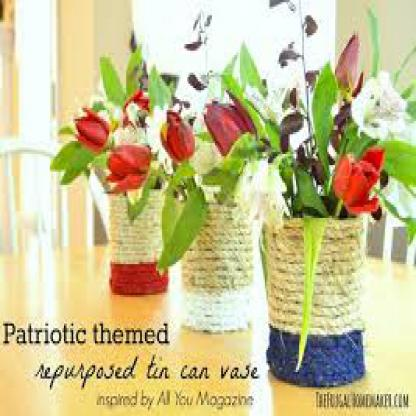Compsot: (265, 216, 363, 387), (174, 194, 251, 332), (108, 187, 166, 297)
Dgrx: (154, 176, 206, 271), (157, 165, 204, 269), (349, 64, 411, 134), (223, 53, 268, 145), (329, 150, 380, 224), (198, 90, 252, 154), (370, 170, 414, 242), (310, 57, 332, 194), (50, 126, 100, 183), (101, 143, 153, 187), (374, 134, 414, 190), (156, 108, 198, 161), (200, 148, 244, 198), (117, 90, 160, 139), (340, 26, 363, 104), (238, 29, 262, 101), (73, 104, 111, 146), (96, 53, 127, 99), (144, 62, 172, 110), (122, 40, 146, 95), (123, 172, 157, 209), (81, 95, 114, 130), (277, 112, 310, 146), (227, 126, 262, 156), (278, 86, 309, 114), (188, 11, 219, 35), (298, 64, 327, 86), (301, 7, 319, 35), (277, 42, 298, 64), (188, 68, 210, 88), (157, 66, 178, 84), (174, 97, 192, 110), (181, 38, 204, 48), (90, 156, 109, 168), (268, 0, 290, 9)
